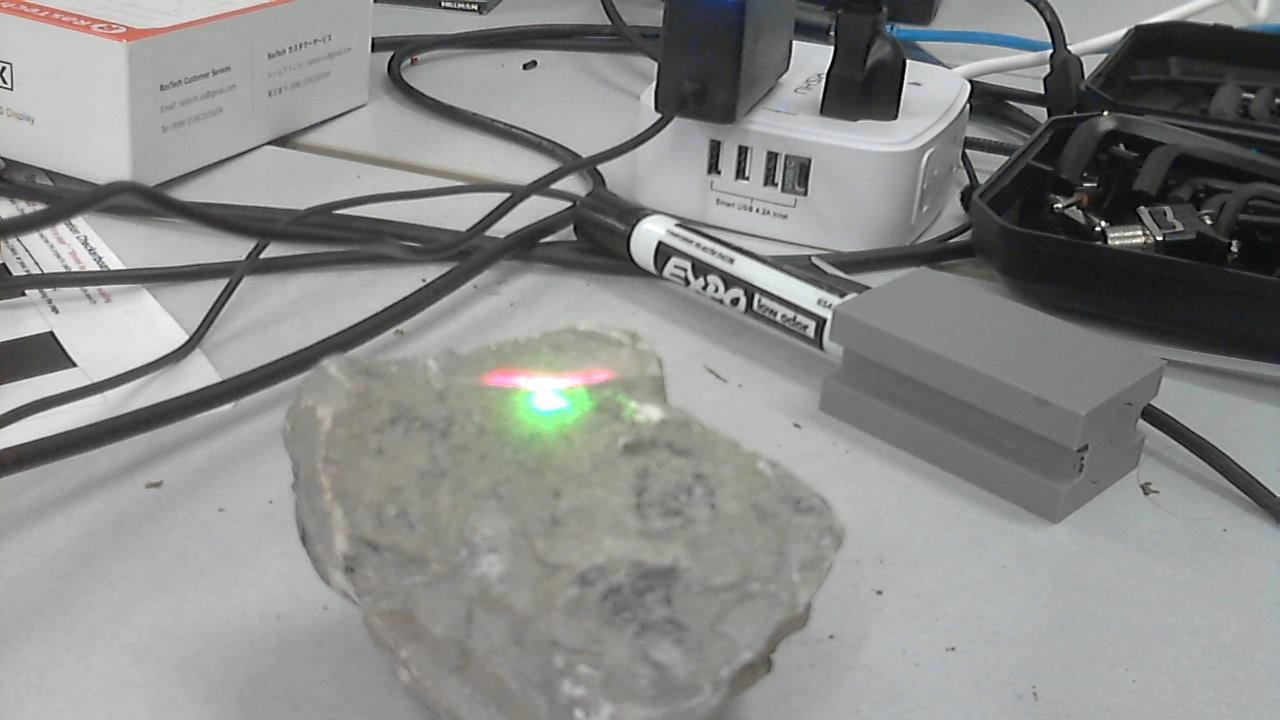Object rock - Material stone - Pdfname as35as4adsa: (480, 362, 650, 444)
